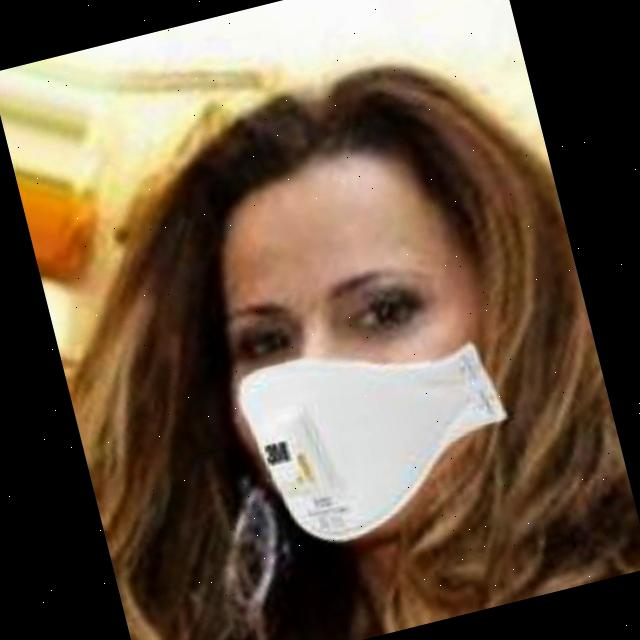suspicion: (64, 46, 562, 640)
